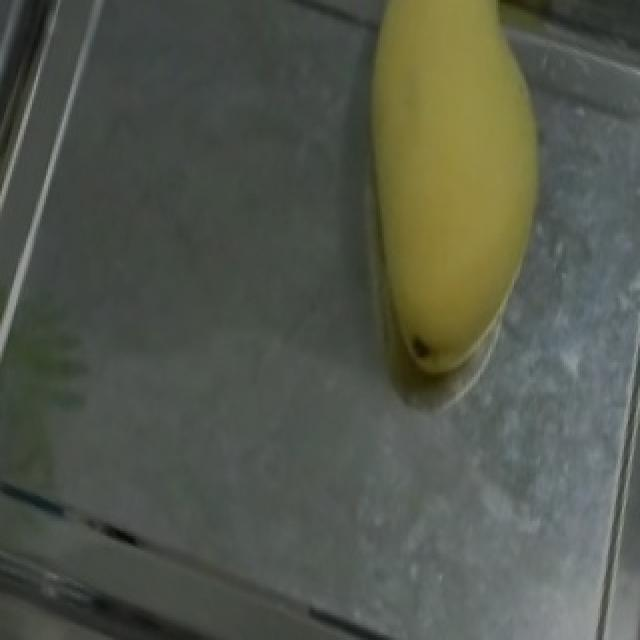fruit: (308, 0, 610, 330)
